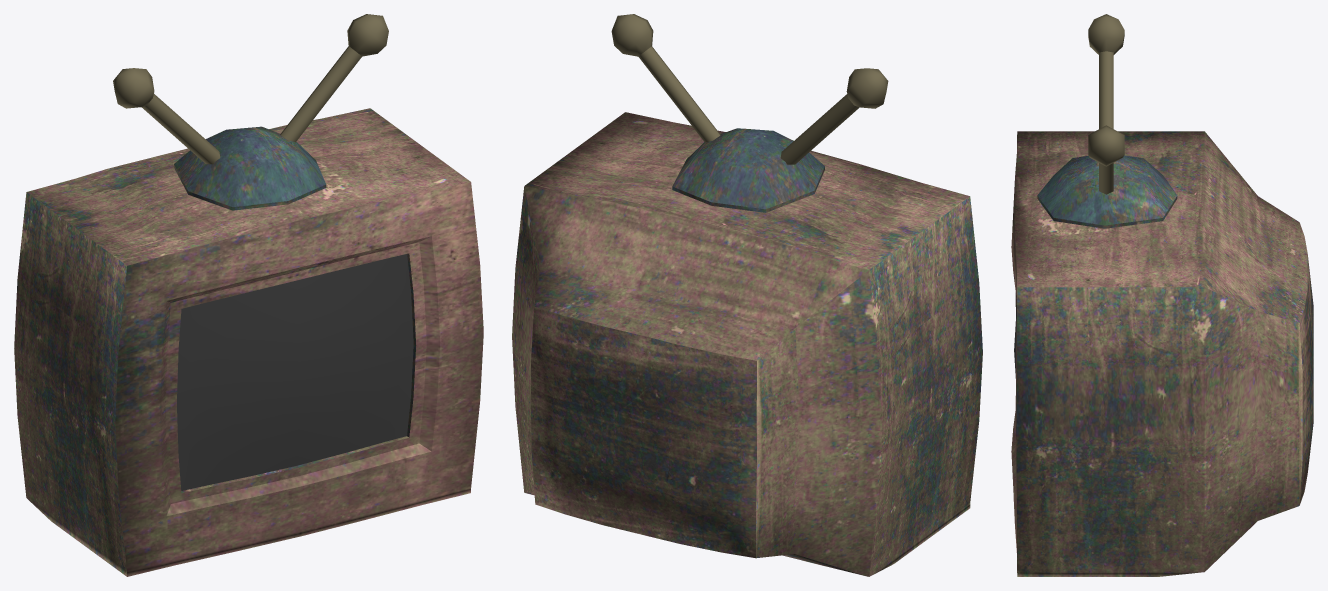
File: 1102_TestTV.fbx
3 views of the same model, side by side, from view 1: azimuth 30°, elevation 25°; view 2: azimuth 150°, elevation 25°; view 3: azimuth 270°, elevation 25° (orthographic). The views are drawn at different scales.
Parts seen in each view (by area): view 1: TV; view 2: TV; view 3: TV.
Boxes of the visible parts, left/top/right/bottom form: TV: left=14, top=14, right=483, bottom=576; TV: left=512, top=14, right=982, bottom=576; TV: left=1011, top=14, right=1313, bottom=576.
Bounding box in the file's own units: 25.24 × 30.13 × 19.26.
2 materials, 1 textured.
